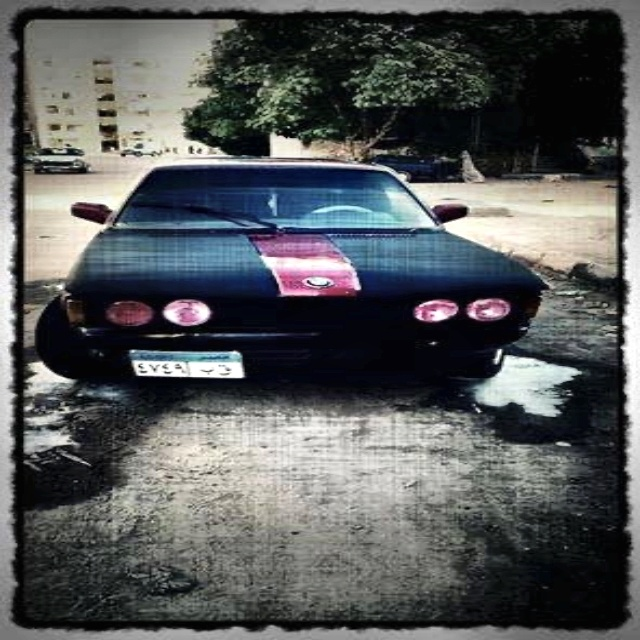License Plate: (125, 348, 246, 381)
